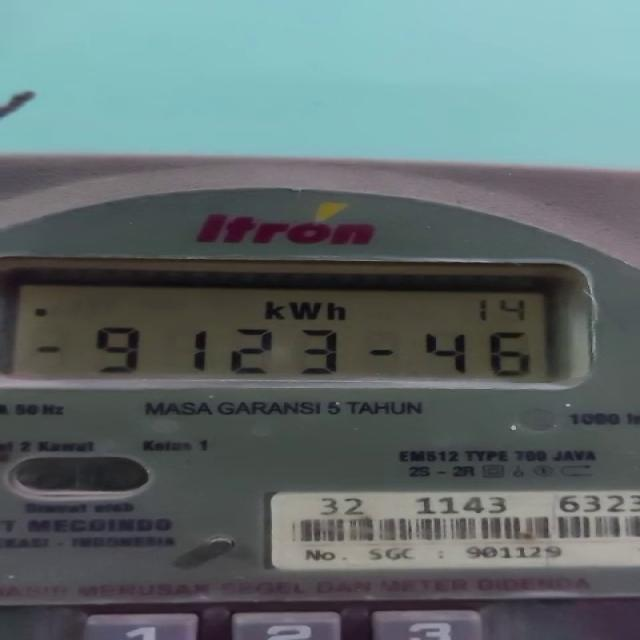LCD: (0, 263, 587, 389)
